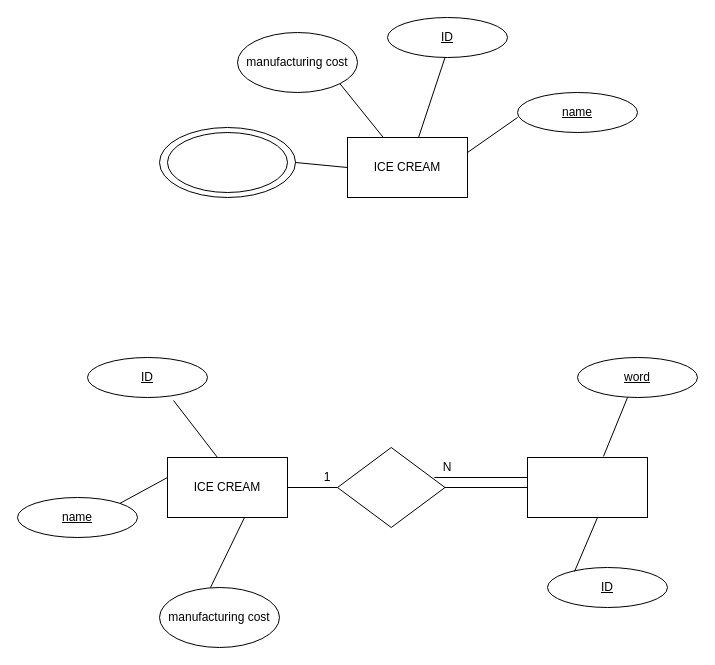
This 715x665 diagram has some shape labels left out. Here are the shapes that lost their labels. From the top down, the centre of each, then its label:
[227,162]: keywords
[390,487]: DESCRIBED WITH
[587,487]: KEYWORD
